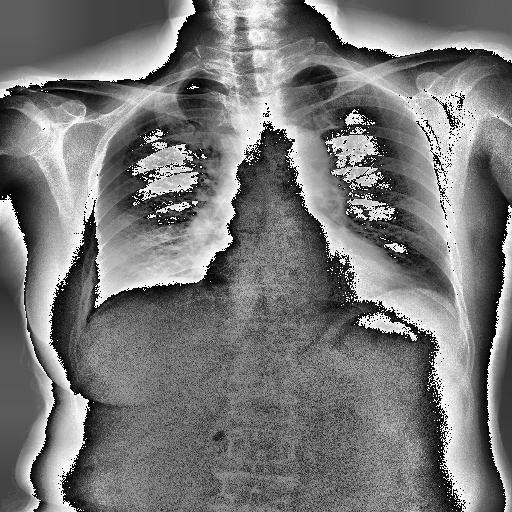0- Aortic enlargement: (268, 128, 329, 178), (266, 123, 326, 171), (264, 129, 328, 171)
3- Cardiomegaly: (190, 254, 406, 306), (201, 240, 406, 292), (191, 254, 403, 282)
